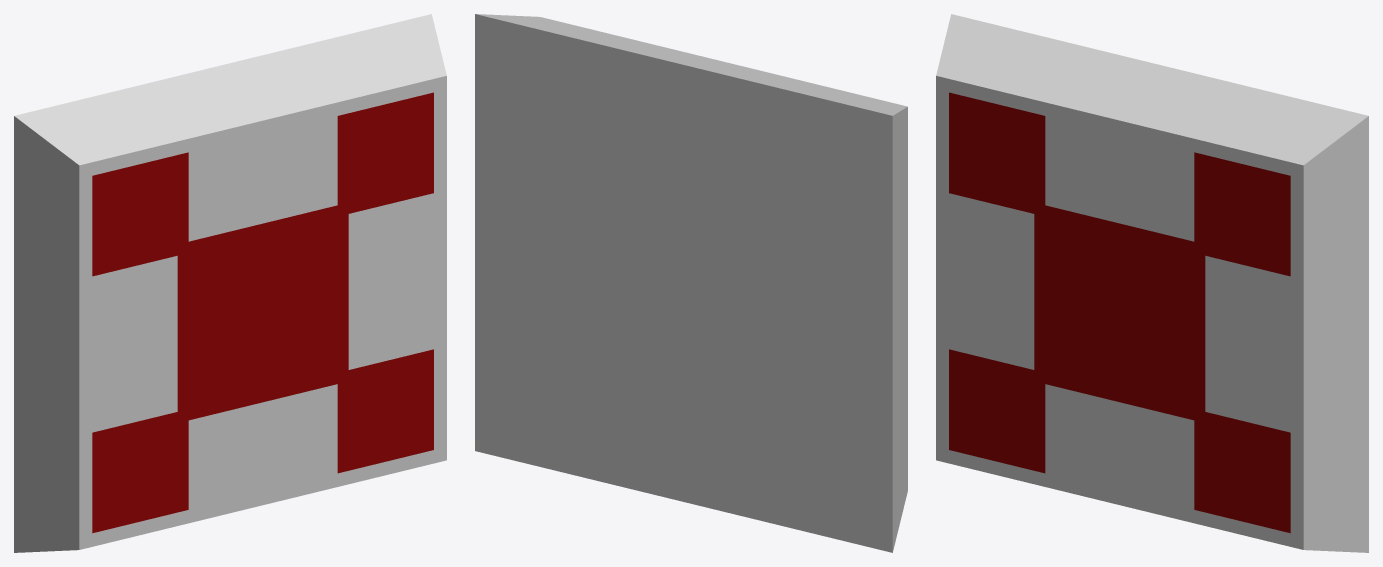
Rendered from SciFi_Modular_Semiotic_Hazard_Warning_01.fbx.
3 renders of one model, left to right at view 1: azimuth 30°, elevation 25°; view 2: azimuth 150°, elevation 25°; view 3: azimuth 330°, elevation 25°, orthographic.
Parts seen in each view (by area): view 1: SciFi_Modular_Semiotic_Hazard_Warning_01; view 2: SciFi_Modular_Semiotic_Hazard_Warning_01; view 3: SciFi_Modular_Semiotic_Hazard_Warning_01.
Boxes of the visible parts, x1=… form: SciFi_Modular_Semiotic_Hazard_Warning_01: x1=14, y1=14, x2=446, y2=552; SciFi_Modular_Semiotic_Hazard_Warning_01: x1=475, y1=14, x2=907, y2=552; SciFi_Modular_Semiotic_Hazard_Warning_01: x1=936, y1=14, x2=1368, y2=552.
Bounding box in the file's own units: 536 × 536 × 89.41.
